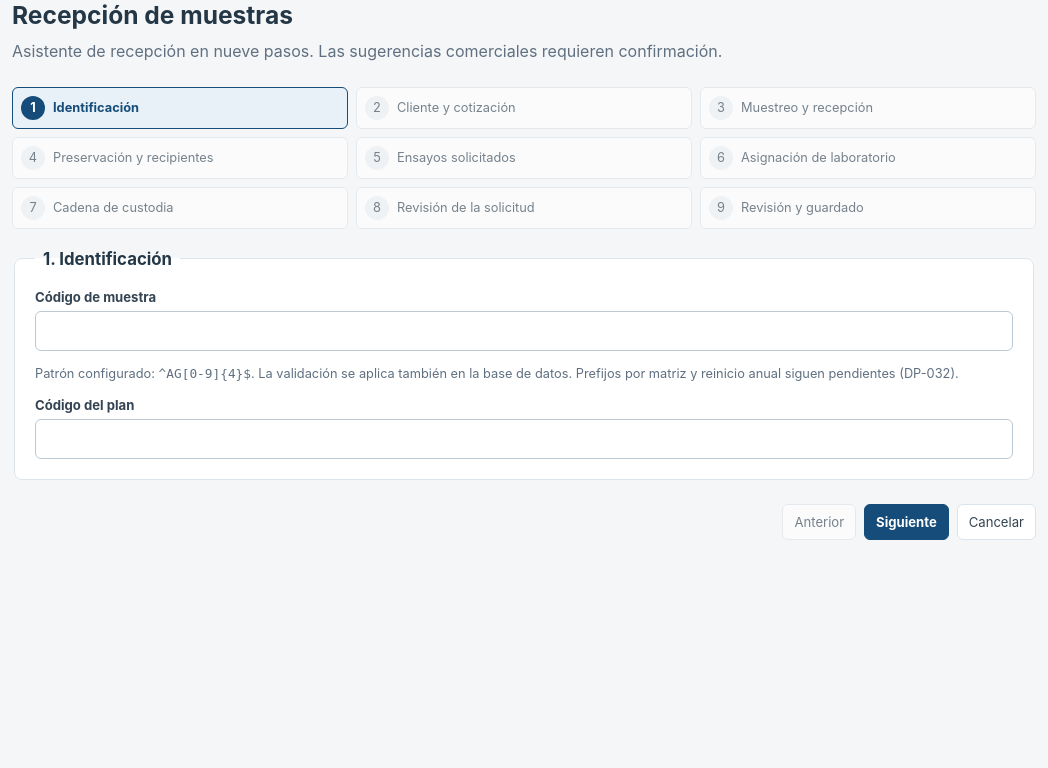
Test: recepción y búsqueda de muestras › requiere confirmación explícita antes de aplicar sugerencias de cotización
Check: the text "Asistente de recepción en nueve pasos. Las sugerencias comerciales requieren confirmación." is shown, box x1=12 y1=41 x2=722 y2=61
Type "AG0346" into the field labelled "Código de muestra".
click(524, 331); type("AG0346")  # box x1=35 y1=311 x2=1013 y2=351
Click the button "Siguiente".
click(906, 522)  # box x1=864 y1=504 x2=949 y2=540
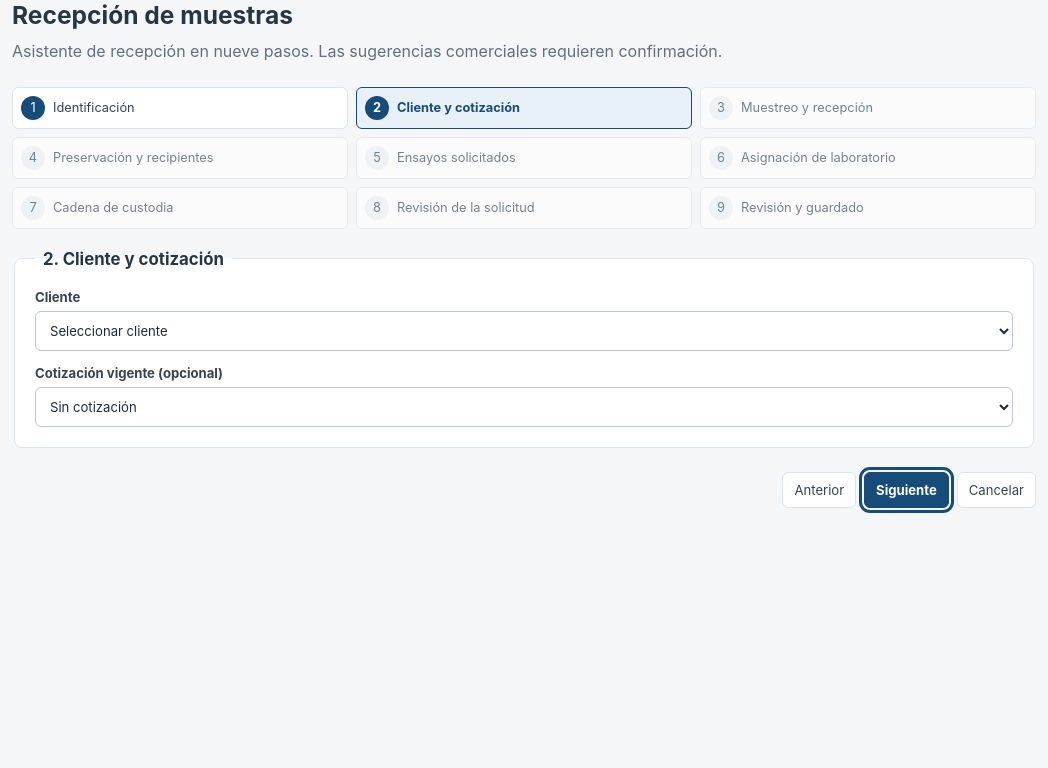
Select "Cliente de prueba · 900123456" in the dropdown labelled "Cliente" at (524, 331), box x1=35 y1=311 x2=1013 y2=351
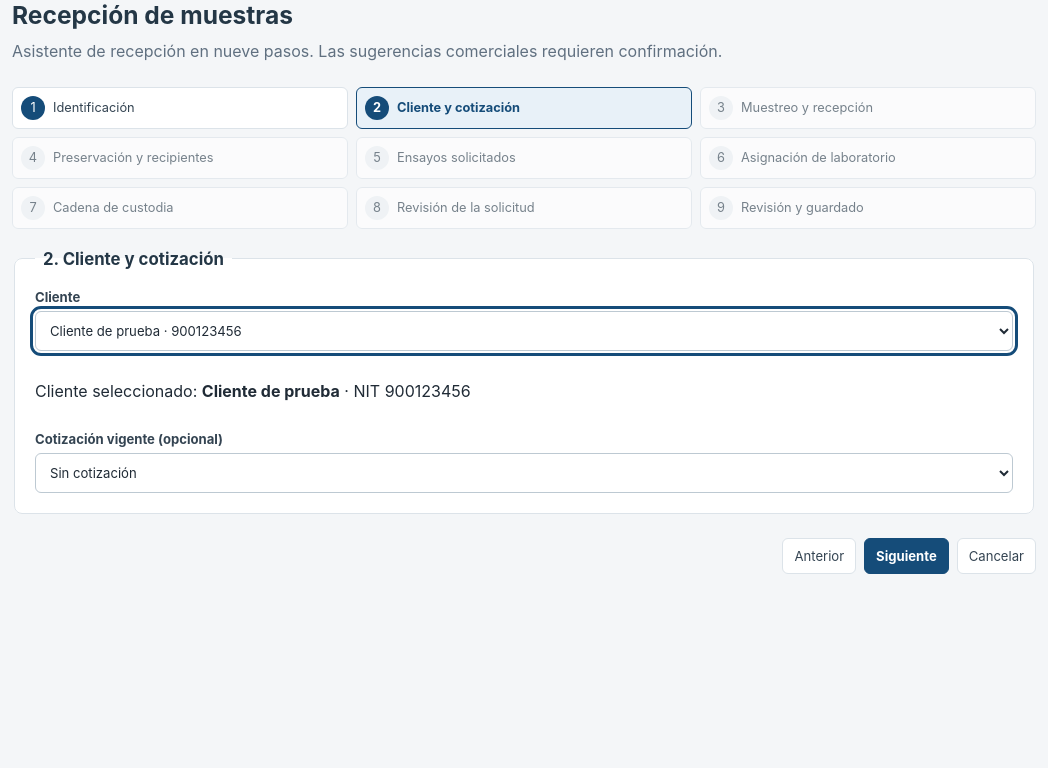
Select "COT-0001-2026" in the dropdown labelled "Cotización vigente (opcional)" at (524, 473), box x1=35 y1=453 x2=1013 y2=493
(page scrolled)
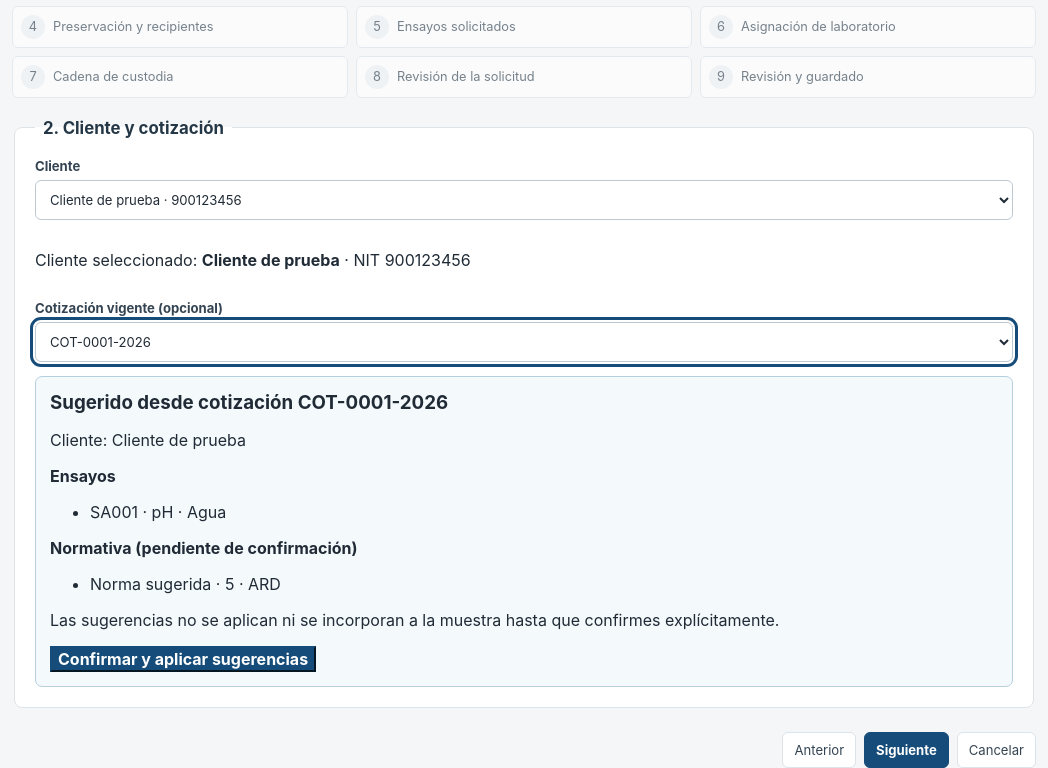
Check: the button "Confirmar y aplicar sugerencias" is shown, box x1=50 y1=646 x2=316 y2=672
Click the button "Siguiente".
click(906, 750)  # box x1=864 y1=732 x2=949 y2=767
(page scrolled)
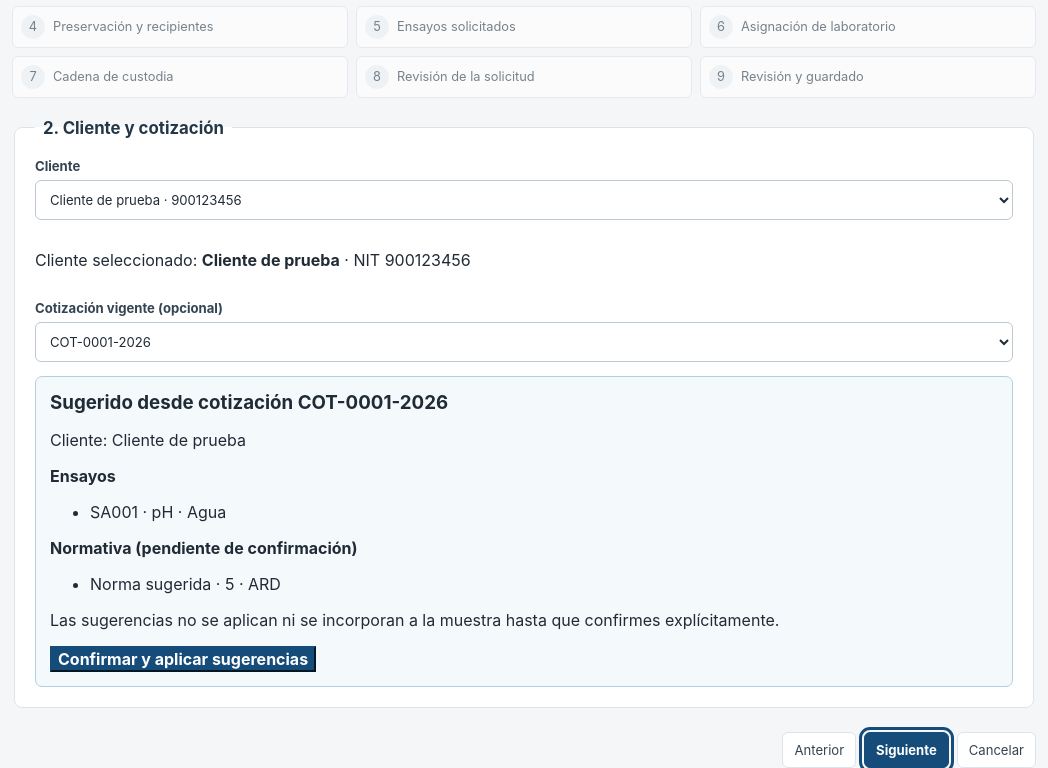
Click the button "Confirmar y aplicar sugerencias".
click(183, 659)  # box x1=50 y1=646 x2=316 y2=672
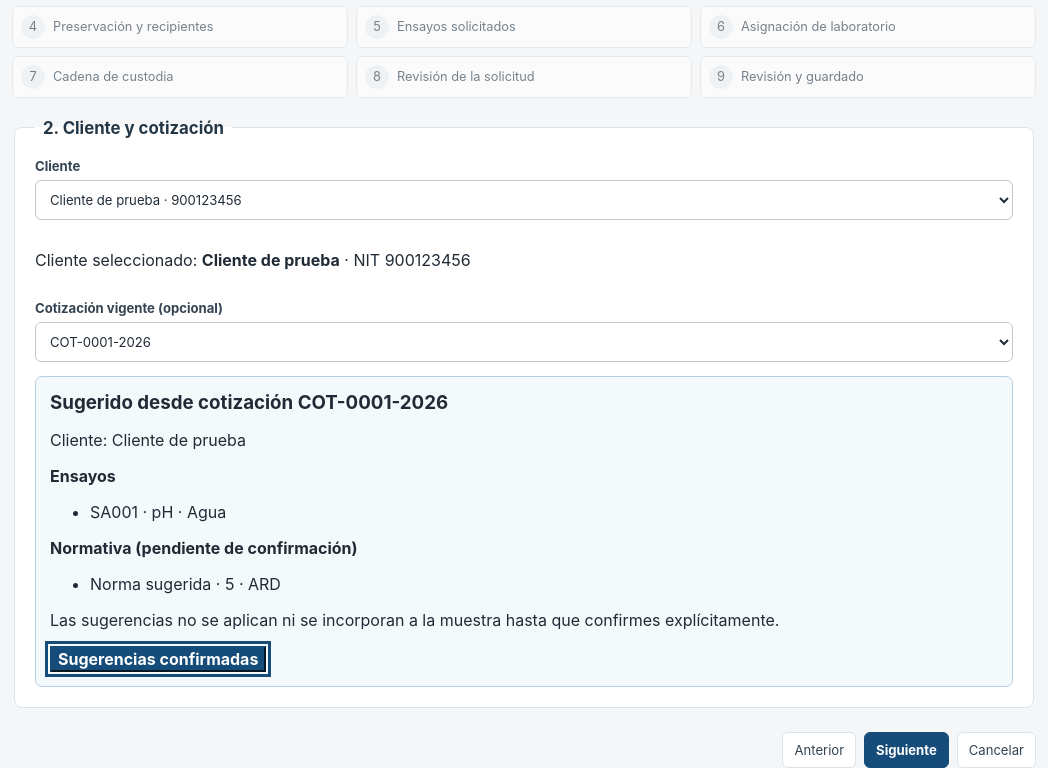
Click the button "Siguiente".
click(906, 750)  # box x1=864 y1=732 x2=949 y2=767
(page scrolled)
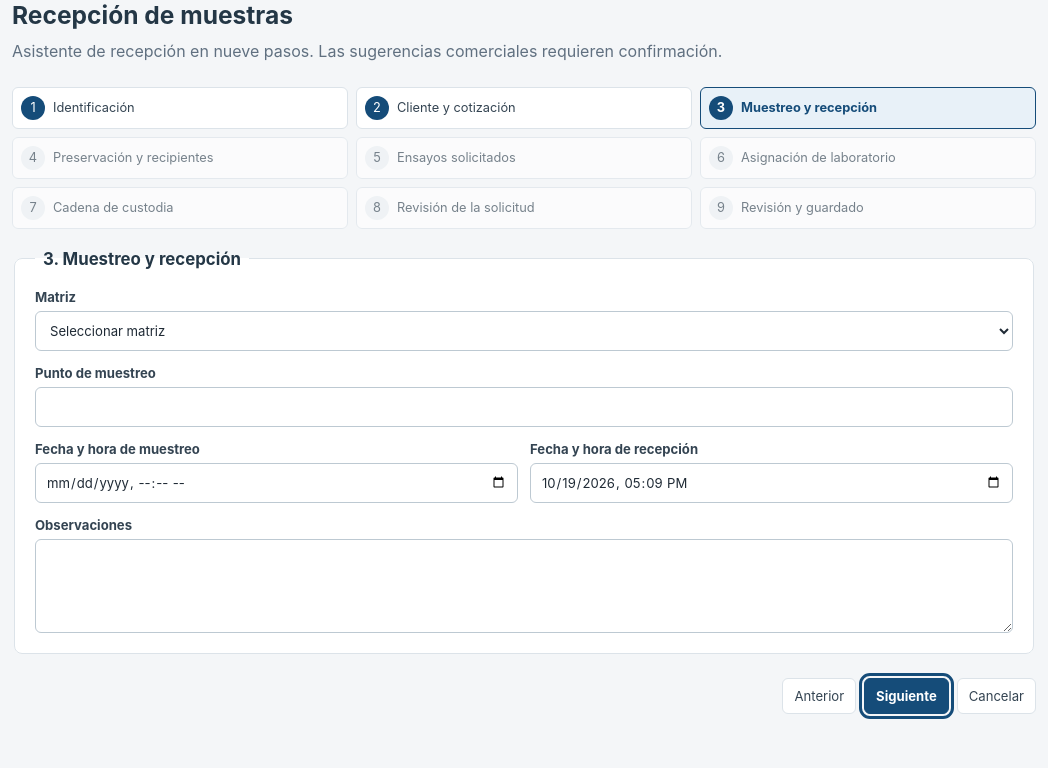
Check: the dropdown labelled "Matriz" is shown, box x1=35 y1=311 x2=1013 y2=351
